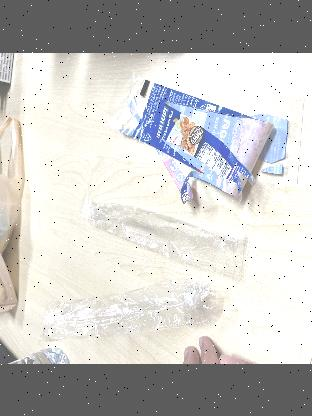Others: (102, 70, 312, 193), (81, 193, 250, 277), (37, 272, 229, 338)
